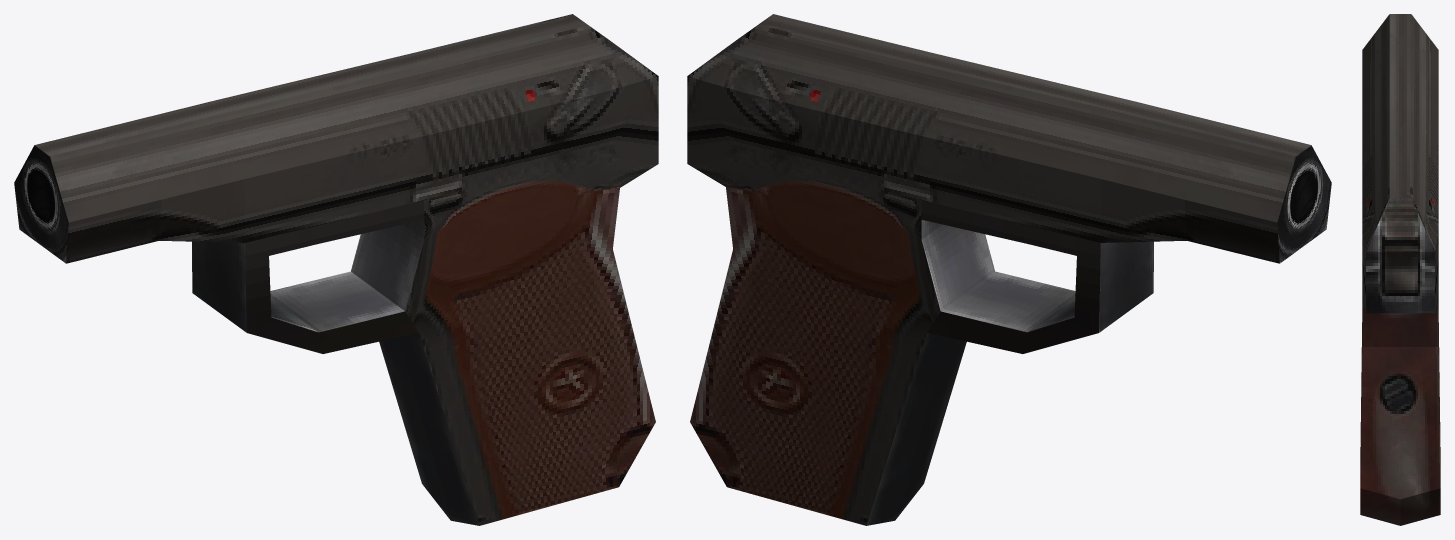
File: makarov.glb
The picture shows the model from 3 angles, left to right: view 1: azimuth 30°, elevation 25°; view 2: azimuth 150°, elevation 25°; view 3: azimuth 270°, elevation 25°; orthographic projection. The views are drawn at different scales.
Parts seen in each view (by area): view 1: Cube; view 2: Cube; view 3: Cube.
Boxes of the visible parts, <box> form: Cube: <box>14,14,658,525</box>; Cube: <box>687,14,1331,525</box>; Cube: <box>1360,14,1440,525</box>.
Size of the model in its own units: 15.49 by 11.74 by 2.61.
Materials: 1 (1 with a texture image).
